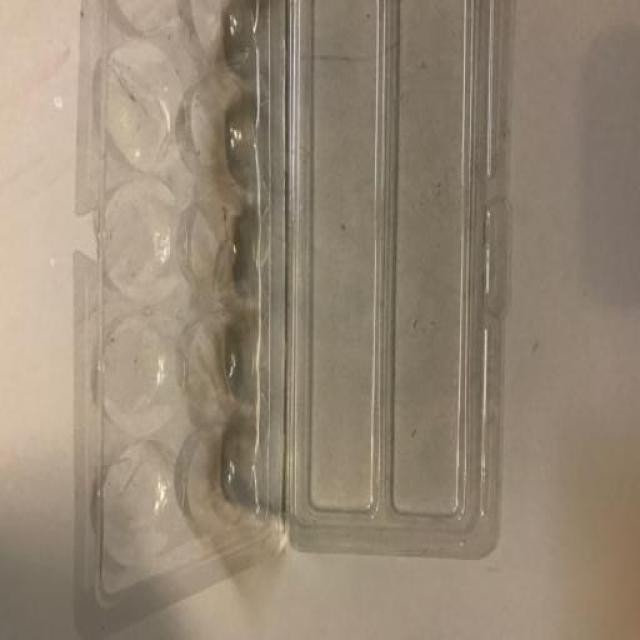Plastic: (76, 0, 506, 634)
